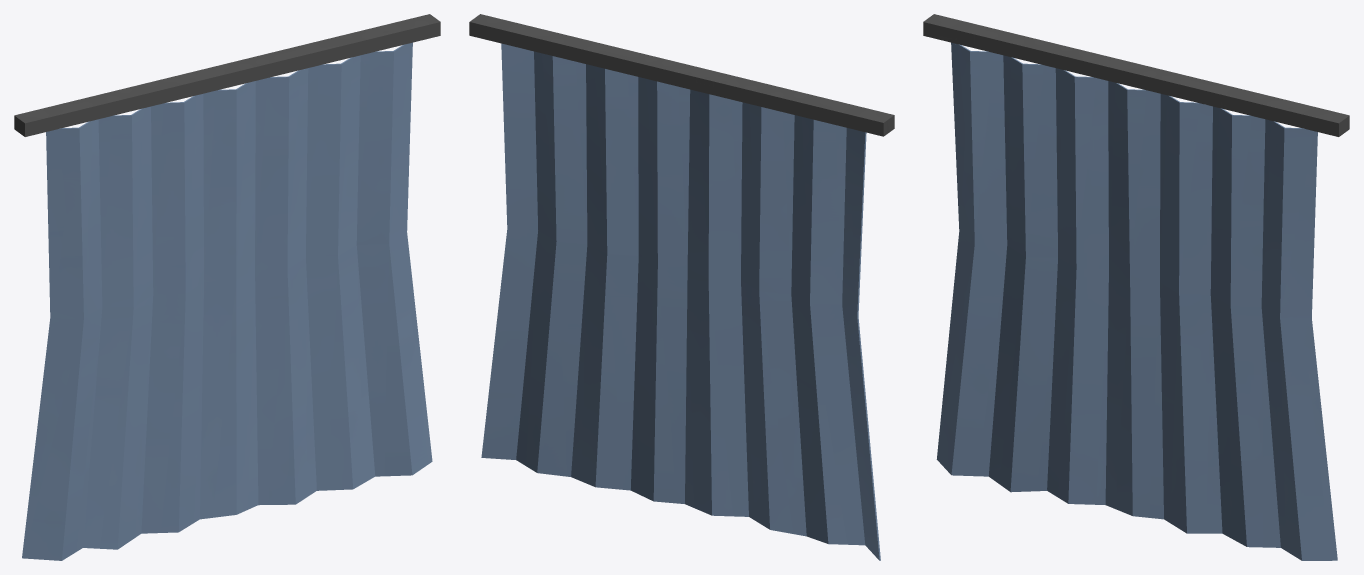
Rendered from Curtain_01_03.fbx.
3 renders of one model, left to right at view 1: azimuth 30°, elevation 25°; view 2: azimuth 150°, elevation 25°; view 3: azimuth 330°, elevation 25°, orthographic.
Parts seen in each view (by area): view 1: Curtain_01_03; view 2: Curtain_01_03; view 3: Curtain_01_03.
Boxes of the visible parts, left/top/right/bottom form: Curtain_01_03: left=14, top=14, right=440, bottom=560; Curtain_01_03: left=469, top=14, right=894, bottom=560; Curtain_01_03: left=923, top=14, right=1349, bottom=560.
Bounding box in the file's own units: 1.66 × 1.7 × 0.1047.
